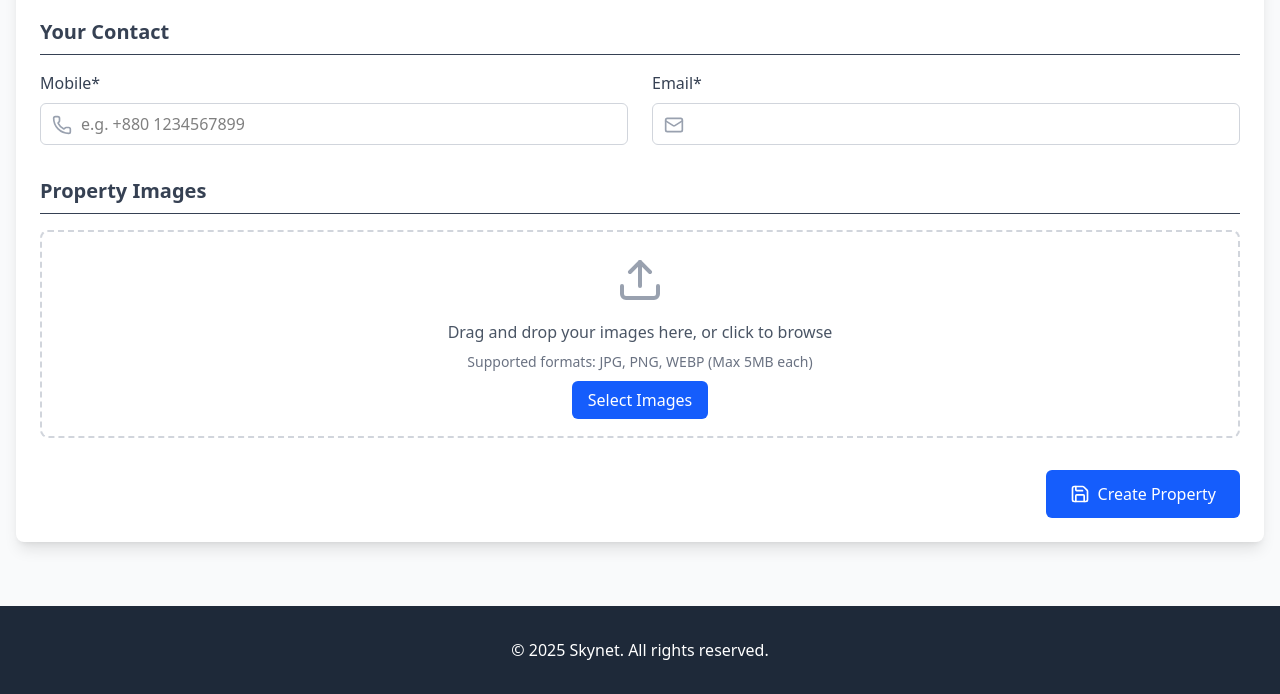
Test: PropertyForm Component › validates form and shows error messages for required fields
(page scrolled)
# Submit form without filling required fields
Click the button "Create Property": x=1143, y=494 [1046,470,1240,518]
(page scrolled)
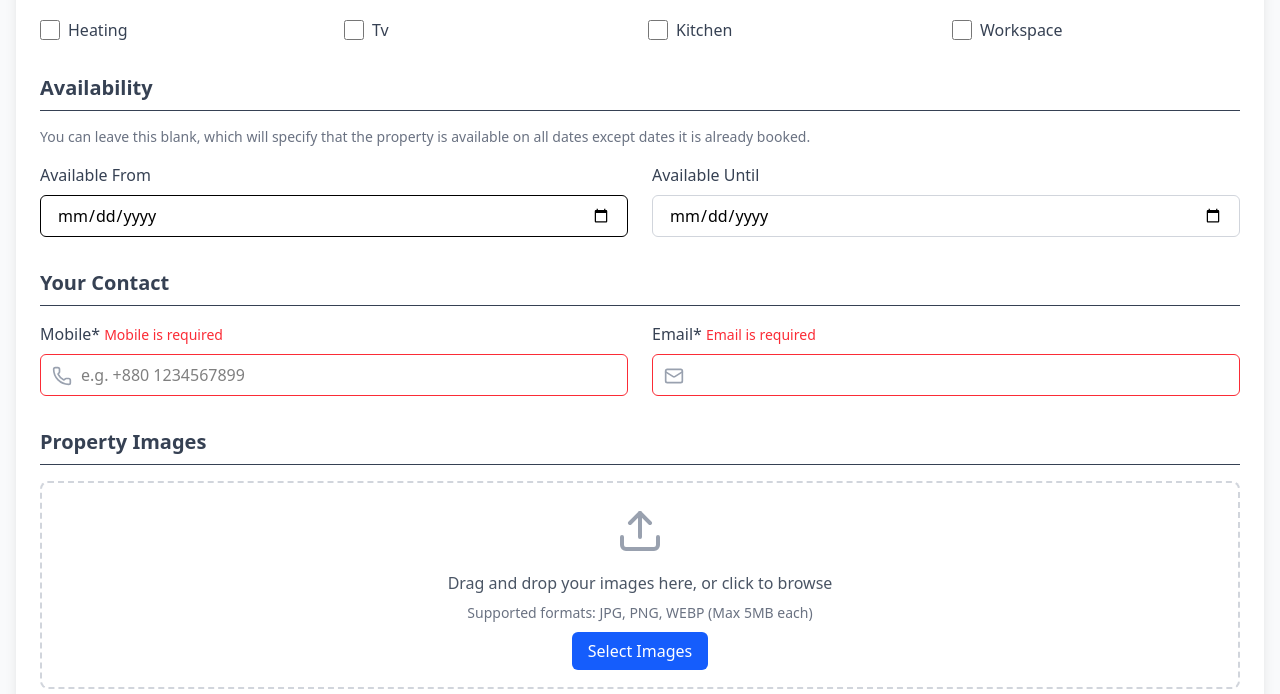
Expected: the text "Mobile is required" is shown, [104,325,223,344]
Expected: the text "Email is required" is shown, [706,325,816,344]
